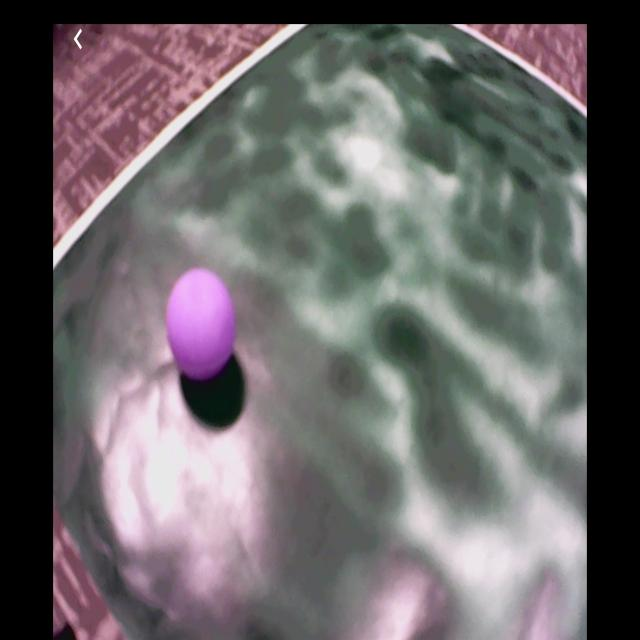ball: (167, 271, 239, 383)
